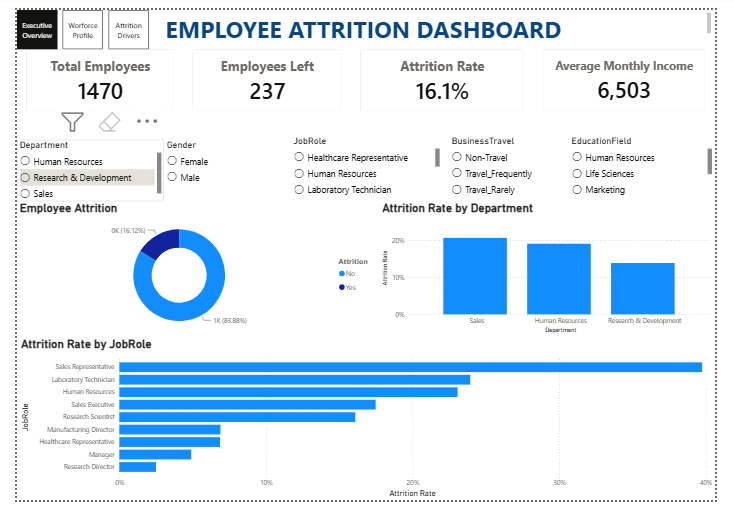

The page's visual inventory and layout, read from the dashboard file:
{"tool":"powerbi","page":{"name":"Executive Overview","canvas":[1280,900],"ordinal":0},"visuals":[{"type":"cardVisual","title":"Total Employees","fields":{"Data":["cleaned_employee.Total Employees"]},"box":[0,56.1,304.9,148.8],"z":0},{"type":"cardVisual","title":"Total Employees","fields":{"Data":["cleaned_employee.Attrition Count"]},"box":[304.9,56.1,307.3,148.8],"z":1000},{"type":"cardVisual","title":"Total Employees","fields":{"Data":["cleaned_employee.Average Monthly Income"]},"box":[946.3,56.1,331.7,148.8],"z":2000},{"type":"cardVisual","title":"Total Employees","fields":{"Data":["cleaned_employee.Attrition Rate"]},"box":[612.2,56.1,334.1,148.8],"z":3000},{"type":"donutChart","title":"Employee Attrition","fields":{"Category":["cleaned_employee.Attrition"],"Y":["cleaned_employee.Total Employees"]},"box":[0,351.2,665.9,248.8],"z":4000},{"type":"clusteredColumnChart","fields":{"Category":["cleaned_employee.Department"],"Y":["cleaned_employee.Attrition Rate"]},"box":[665.9,351.2,614.6,248.8],"z":5000},{"type":"clusteredBarChart","fields":{"Category":["cleaned_employee.JobRole"],"Y":["cleaned_employee.Attrition Rate"]},"box":[2.4,600,1278,300],"z":6000},{"type":"listSlicer","fields":{"Values":["cleaned_employee.Department"]},"box":[0,236.6,270.7,117.1],"z":7000},{"type":"listSlicer","fields":{"Values":["cleaned_employee.Gender"]},"box":[270.7,236.6,263.4,117.1],"z":8000},{"type":"listSlicer","fields":{"Values":["cleaned_employee.JobRole"]},"box":[502.4,229.3,278,124.4],"z":9000},{"type":"listSlicer","fields":{"Values":["cleaned_employee.BusinessTravel"]},"box":[792.7,229.3,219.5,124.4],"z":10000},{"type":"listSlicer","fields":{"Values":["cleaned_employee.EducationField"]},"box":[1012.2,229.3,268.3,122],"z":11000},{"type":"textbox","box":[0,0,1278,56.1],"z":12000},{"type":"pageNavigator","box":[0,0,242.5,72.5],"z":12001}]}

Visuals, with their boxes in screenshot pixels (x1, y1, x2, y2), scaled from the page's 1280x900 canvas onto the 734x511 screenshot:
"Total Employees" cardVisual: [left=0, top=32, right=175, bottom=116]
"Total Employees" cardVisual: [left=175, top=32, right=351, bottom=116]
"Total Employees" cardVisual: [left=543, top=32, right=733, bottom=116]
"Total Employees" cardVisual: [left=351, top=32, right=543, bottom=116]
"Employee Attrition" donutChart: [left=0, top=199, right=382, bottom=341]
clusteredColumnChart - cleaned_employee.Department x cleaned_employee.Attrition Rate: [left=382, top=199, right=733, bottom=341]
clusteredBarChart - cleaned_employee.JobRole x cleaned_employee.Attrition Rate: [left=1, top=341, right=733, bottom=510]
listSlicer - cleaned_employee.Department: [left=0, top=134, right=155, bottom=201]
listSlicer - cleaned_employee.Gender: [left=155, top=134, right=306, bottom=201]
listSlicer - cleaned_employee.JobRole: [left=288, top=130, right=448, bottom=201]
listSlicer - cleaned_employee.BusinessTravel: [left=455, top=130, right=580, bottom=201]
listSlicer - cleaned_employee.EducationField: [left=580, top=130, right=733, bottom=199]
textbox: [left=0, top=0, right=733, bottom=32]
pageNavigator: [left=0, top=0, right=139, bottom=41]
